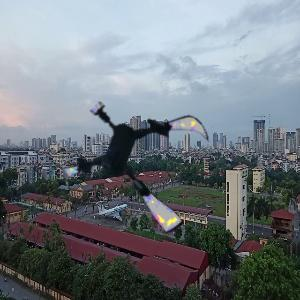drone: (69, 91, 216, 238)
